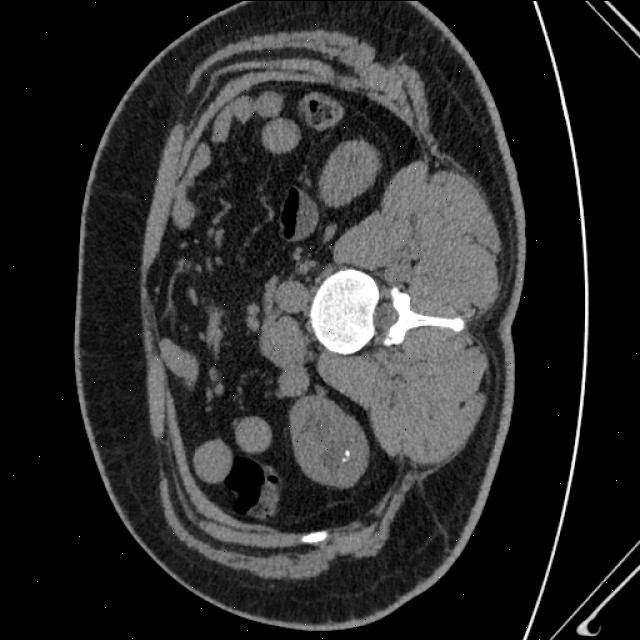kidneystone: (342, 449, 351, 461)
